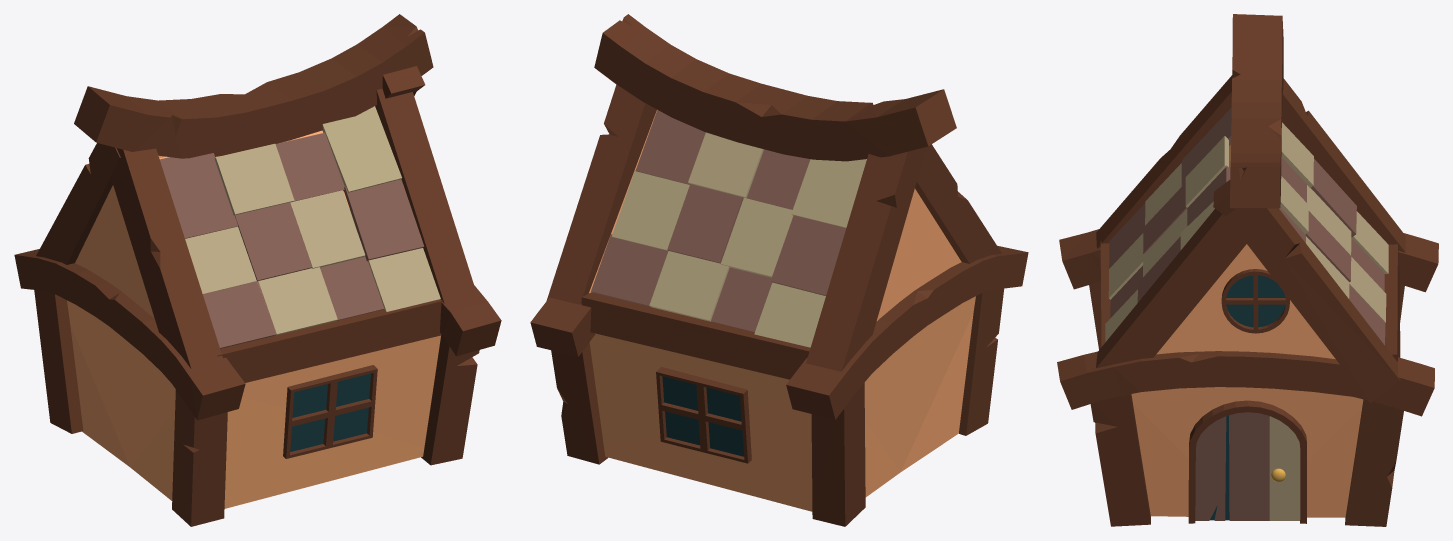
Rendered from houseThree.glb.
The picture shows the model from 3 angles, left to right: view 1: azimuth 30°, elevation 25°; view 2: azimuth 150°, elevation 25°; view 3: azimuth 270°, elevation 25°; orthographic projection. The views are drawn at different scales.
Parts seen in each view (by area): view 1: PAREDES, Cubo.004, Cubo.007, Cubo.026, Cubo.009, Cubo.008, ventana.001, Cubo.013, Cubo.003, Cubo.012, Cubo.006, Cubo.035 (+13 smaller); view 2: PAREDES, Cubo.004, Cubo.006, Cubo.026, Cubo.005, Cubo.011, ventana, Cubo.012, Cubo.007, Cubo.002, Cubo.015, Cubo.024 (+12 smaller); view 3: PAREDES, puerta, Cubo.001, Cubo.005, Cubo.004, Cubo.008, Cubo.003, Cubo.002, Cubo.006, Cubo.007, Cubo.026, ventana circular (+26 smaller).
Part boxes in pixels (x1,y1,x2,y2): PAREDES: (67, 130, 440, 508); Cubo.004: (74, 14, 433, 158); Cubo.007: (111, 148, 223, 369); Cubo.026: (14, 249, 245, 420); Cubo.009: (217, 299, 442, 382); Cubo.008: (375, 88, 477, 303); ventana.001: (283, 365, 377, 458); Cubo.013: (172, 390, 227, 526); Cubo.003: (421, 335, 479, 465); Cubo.012: (34, 290, 83, 433); Cubo.006: (36, 143, 120, 264); Cubo.035: (159, 153, 237, 238); PAREDES: (589, 110, 975, 511); Cubo.004: (594, 14, 956, 161); Cubo.006: (806, 147, 926, 371); Cubo.026: (786, 246, 1028, 419); Cubo.005: (546, 84, 656, 304); Cubo.011: (581, 292, 810, 379); ventana: (656, 367, 751, 463); Cubo.012: (811, 383, 865, 526); Cubo.007: (915, 144, 1001, 263); Cubo.002: (551, 342, 607, 464); Cubo.015: (770, 215, 846, 295); Cubo.024: (612, 169, 689, 250); PAREDES: (1131, 145, 1363, 517); puerta: (1188, 400, 1306, 523); Cubo.001: (1057, 351, 1434, 416); Cubo.005: (1213, 180, 1400, 403); Cubo.004: (1230, 14, 1283, 208); Cubo.008: (1096, 208, 1246, 368); Cubo.003: (1090, 394, 1150, 526); Cubo.002: (1345, 399, 1403, 526); Cubo.006: (1282, 78, 1405, 252); Cubo.007: (1096, 75, 1232, 248); Cubo.026: (1059, 229, 1438, 292); ventana circular: (1221, 269, 1289, 333).
Size of the model in its own units: 1.96 by 2.13 by 1.97.
